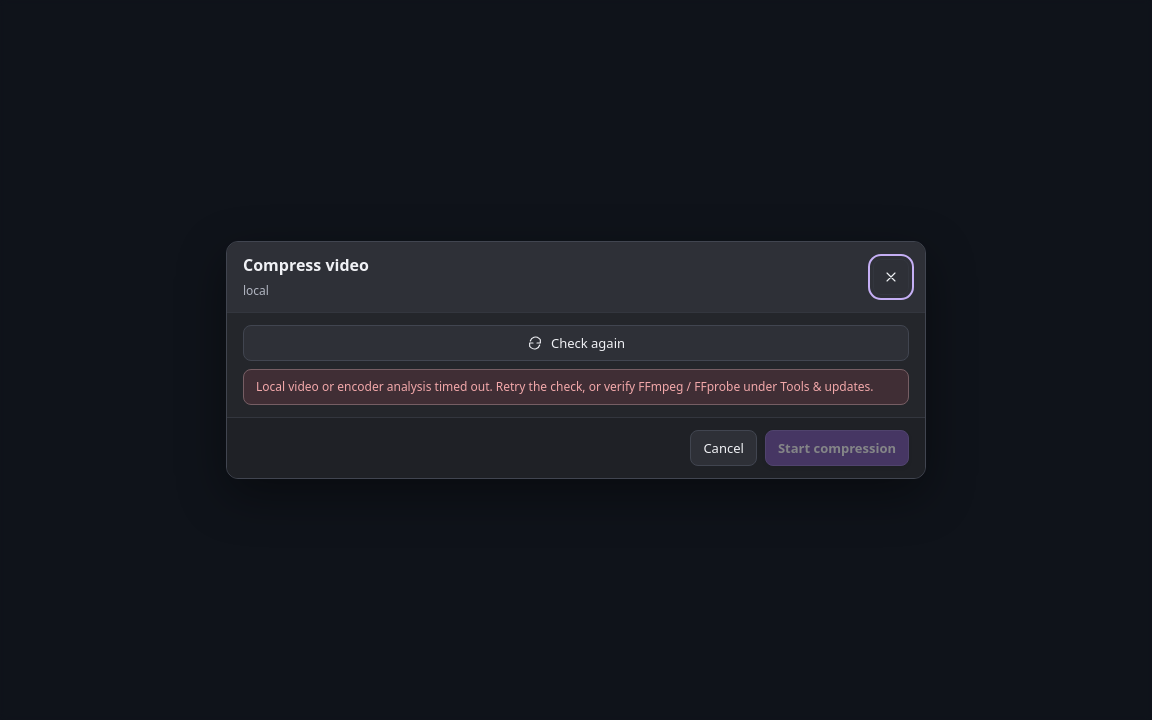
Test case: stops the initial loading message after a failed check and can retry the backend analysis
expect the message is shown: met, box [243, 370, 909, 406]
expect the button "Start compression" is disabled: met, box [765, 430, 909, 466]
Click the button "Check again" at {"x": 576, "y": 344}, box [243, 326, 909, 362]
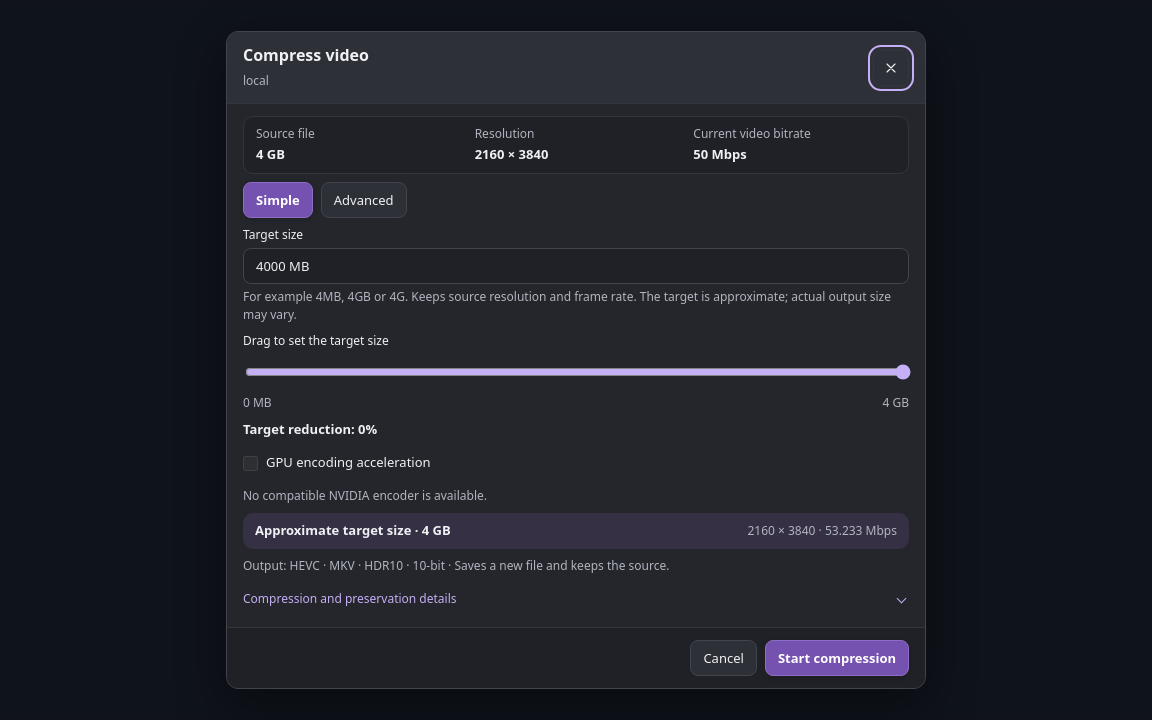
expect the field labelled "Target size" is shown: met, box [243, 248, 909, 284]
expect the button "Start compression" is enabled: met, box [765, 640, 909, 676]
